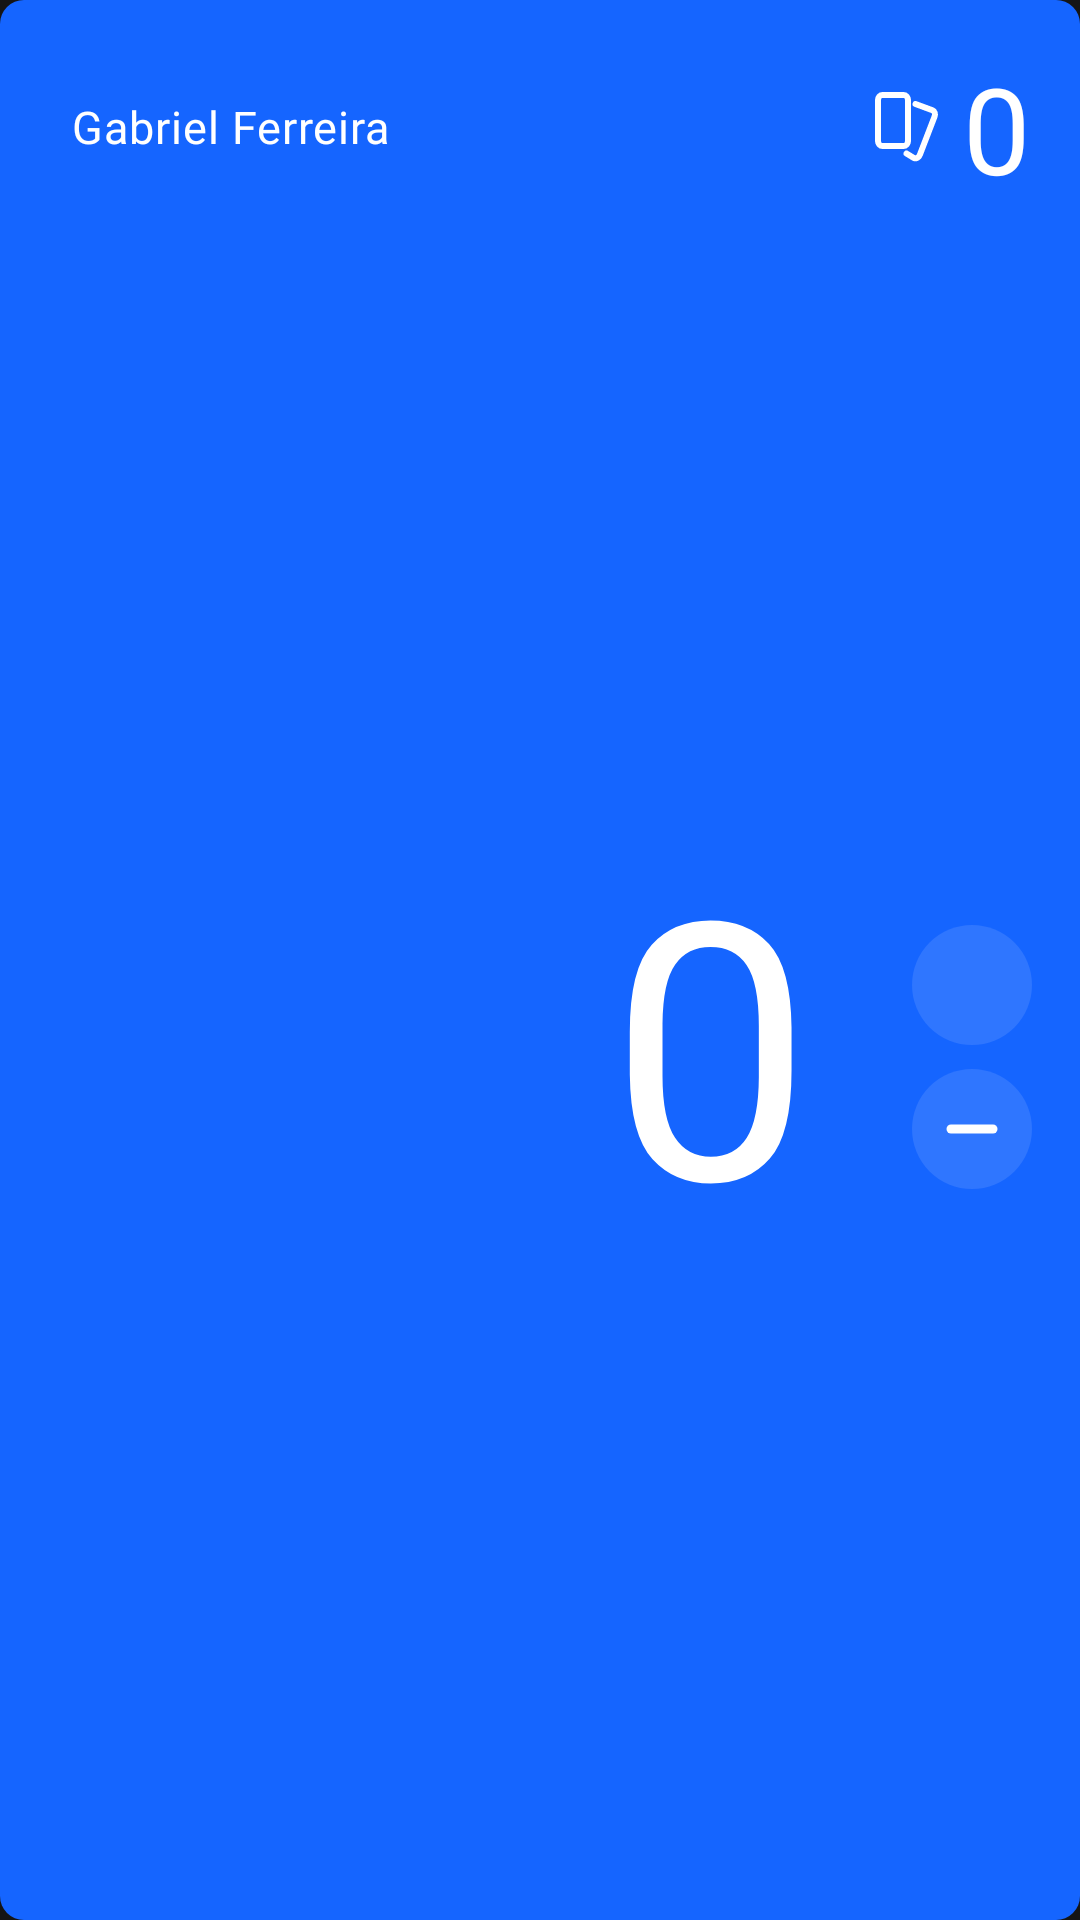

Icon click points for this 1080w x 1920h phone screenshot, format point (x, y):
foul: point (906, 127)
remove: point (972, 1129)
